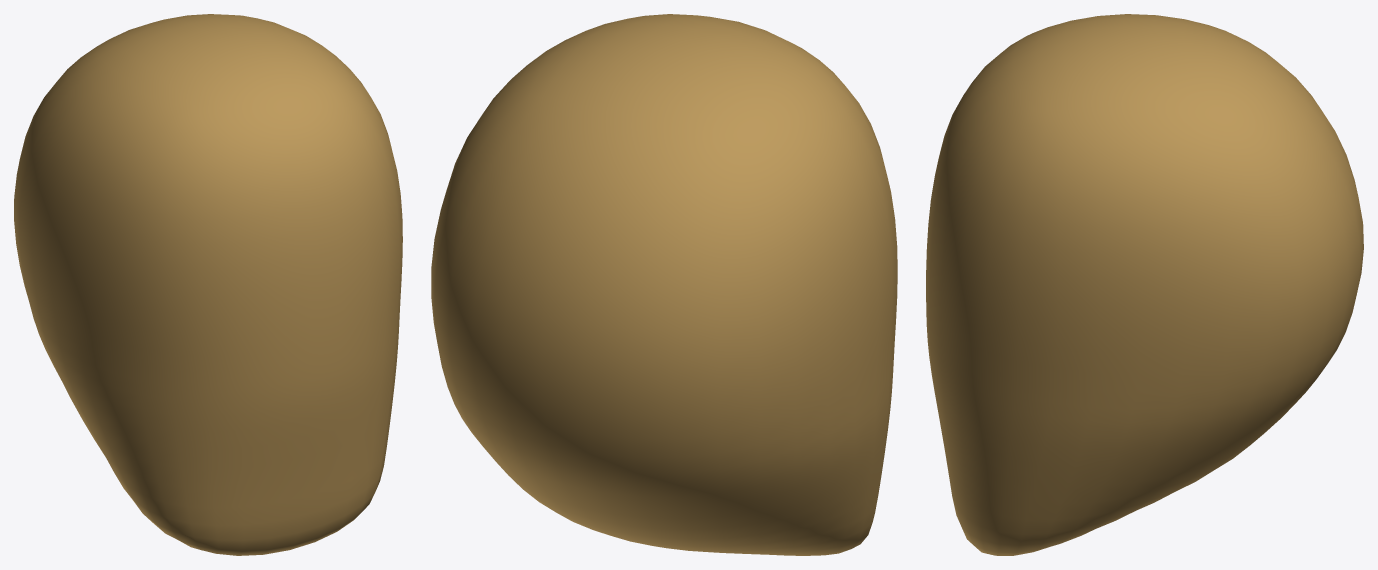
The model's file is head_head_012.gltf.
3 renders of one model, left to right at view 1: azimuth 30°, elevation 25°; view 2: azimuth 150°, elevation 25°; view 3: azimuth 270°, elevation 25°, orthographic. The views are drawn at different scales.
Parts seen in each view (by area): view 1: head.012; view 2: head.012; view 3: head.012.
Part boxes in pixels (x1=…): head.012: x1=14, y1=14, x2=402, y2=555; head.012: x1=431, y1=14, x2=897, y2=555; head.012: x1=926, y1=14, x2=1363, y2=555.
Bounding box in the file's own units: 0.6189 × 0.8558 × 0.6907.
